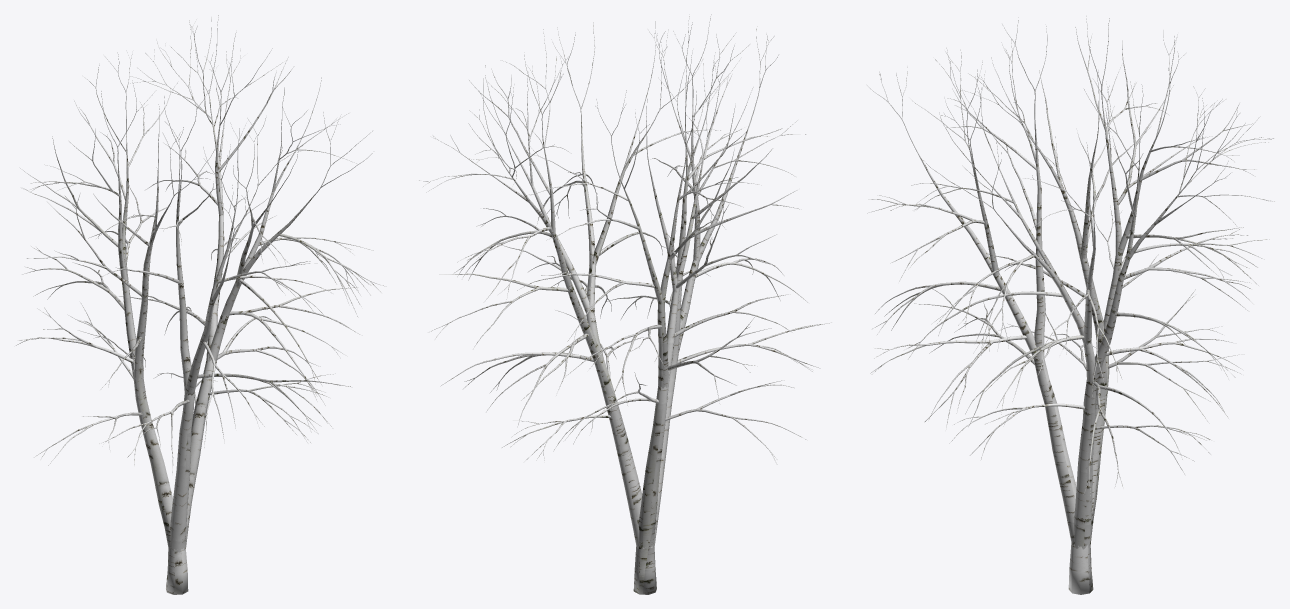
The model's file is tree2.glb.
3 renders of one model, left to right at view 1: azimuth 30°, elevation 25°; view 2: azimuth 150°, elevation 25°; view 3: azimuth 270°, elevation 25°, orthographic. The views are drawn at different scales.
Parts seen in each view (by area): view 1: 15; view 2: 15; view 3: 15.
Part boxes in pixels (x1=…): 15: x1=16, y1=15, x2=386, y2=594; 15: x1=419, y1=14, x2=831, y2=594; 15: x1=866, y1=15, x2=1274, y2=594.
Bounding box in the file's own units: 8.48 × 13.37 × 8.91.
Materials: 1 (1 with a texture image).
